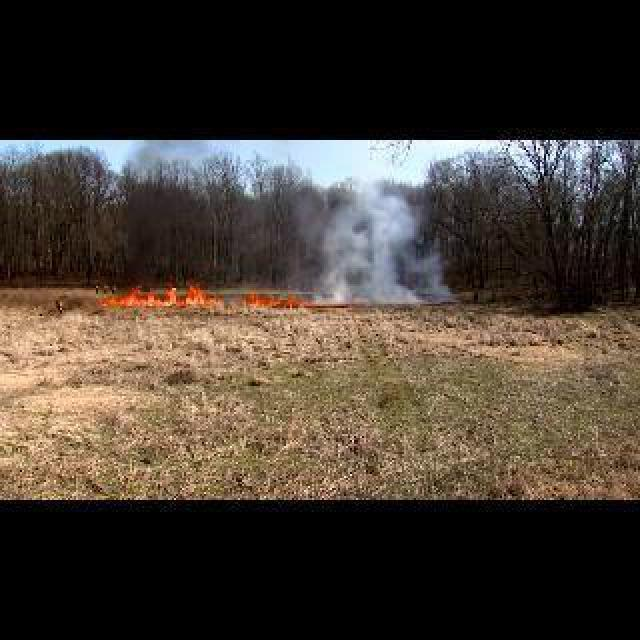fire: (104, 288, 224, 304), (246, 290, 316, 306)
smoke: (308, 172, 450, 314)
